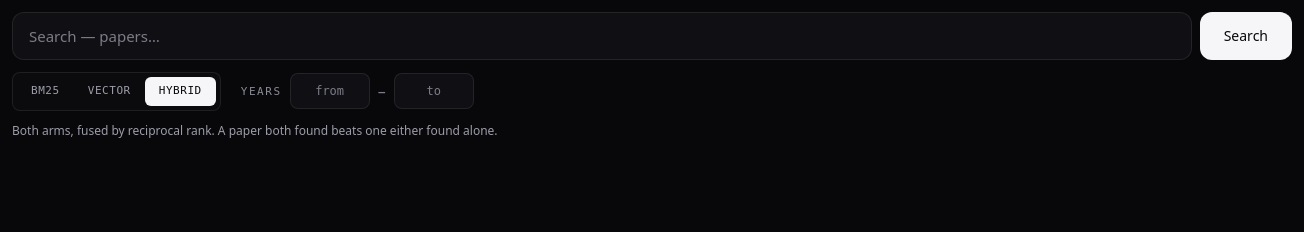
Test: App › surfaces API failures instead of an empty page
In the field named "Query": (602, 36) [12,12,1192,60], type "anything"
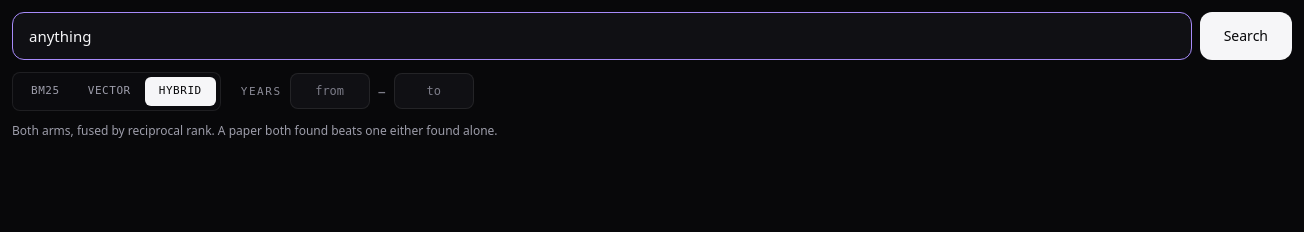
Click the button "Search": (1246, 36) [1200,12,1292,60]
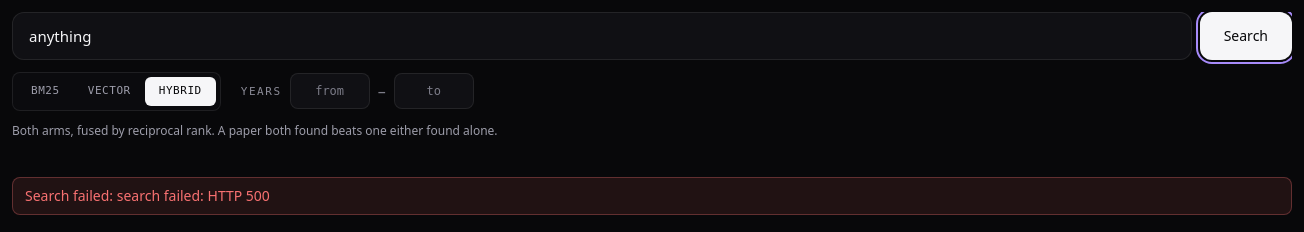
Now the message shows "HTTP 500", box [117,186,270,204]
